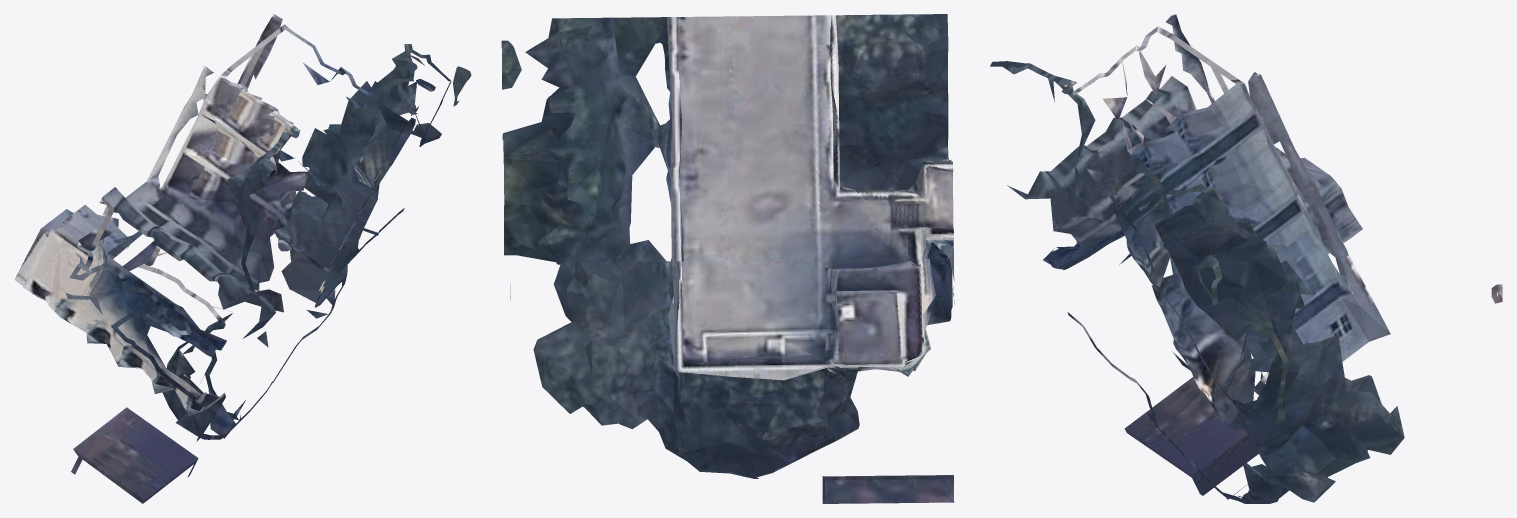
3 renders of one model, left to right at view 1: azimuth 30°, elevation 25°; view 2: azimuth 150°, elevation 25°; view 3: azimuth 270°, elevation 25°, orthographic. The views are drawn at different scales.
Size of the model in its own units: 42.03 by 41.08 by 39.58.
Materials: 1 (1 with a texture image).
